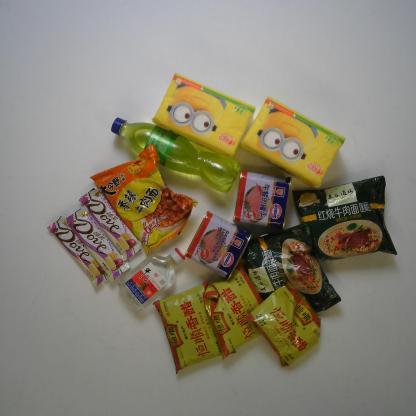Alcohol: (114, 244, 189, 314)
Canned Food: (183, 211, 255, 284), (227, 171, 293, 234)
Chocolate: (62, 206, 130, 284), (76, 186, 144, 263), (45, 213, 112, 288)
Drink: (105, 114, 240, 193)
Instant Noodles: (90, 152, 200, 259), (242, 221, 350, 323), (288, 173, 397, 263)
Seasoner: (149, 284, 230, 372), (251, 278, 327, 369), (204, 267, 271, 356)
Tissue: (234, 95, 349, 190), (148, 70, 257, 162)
